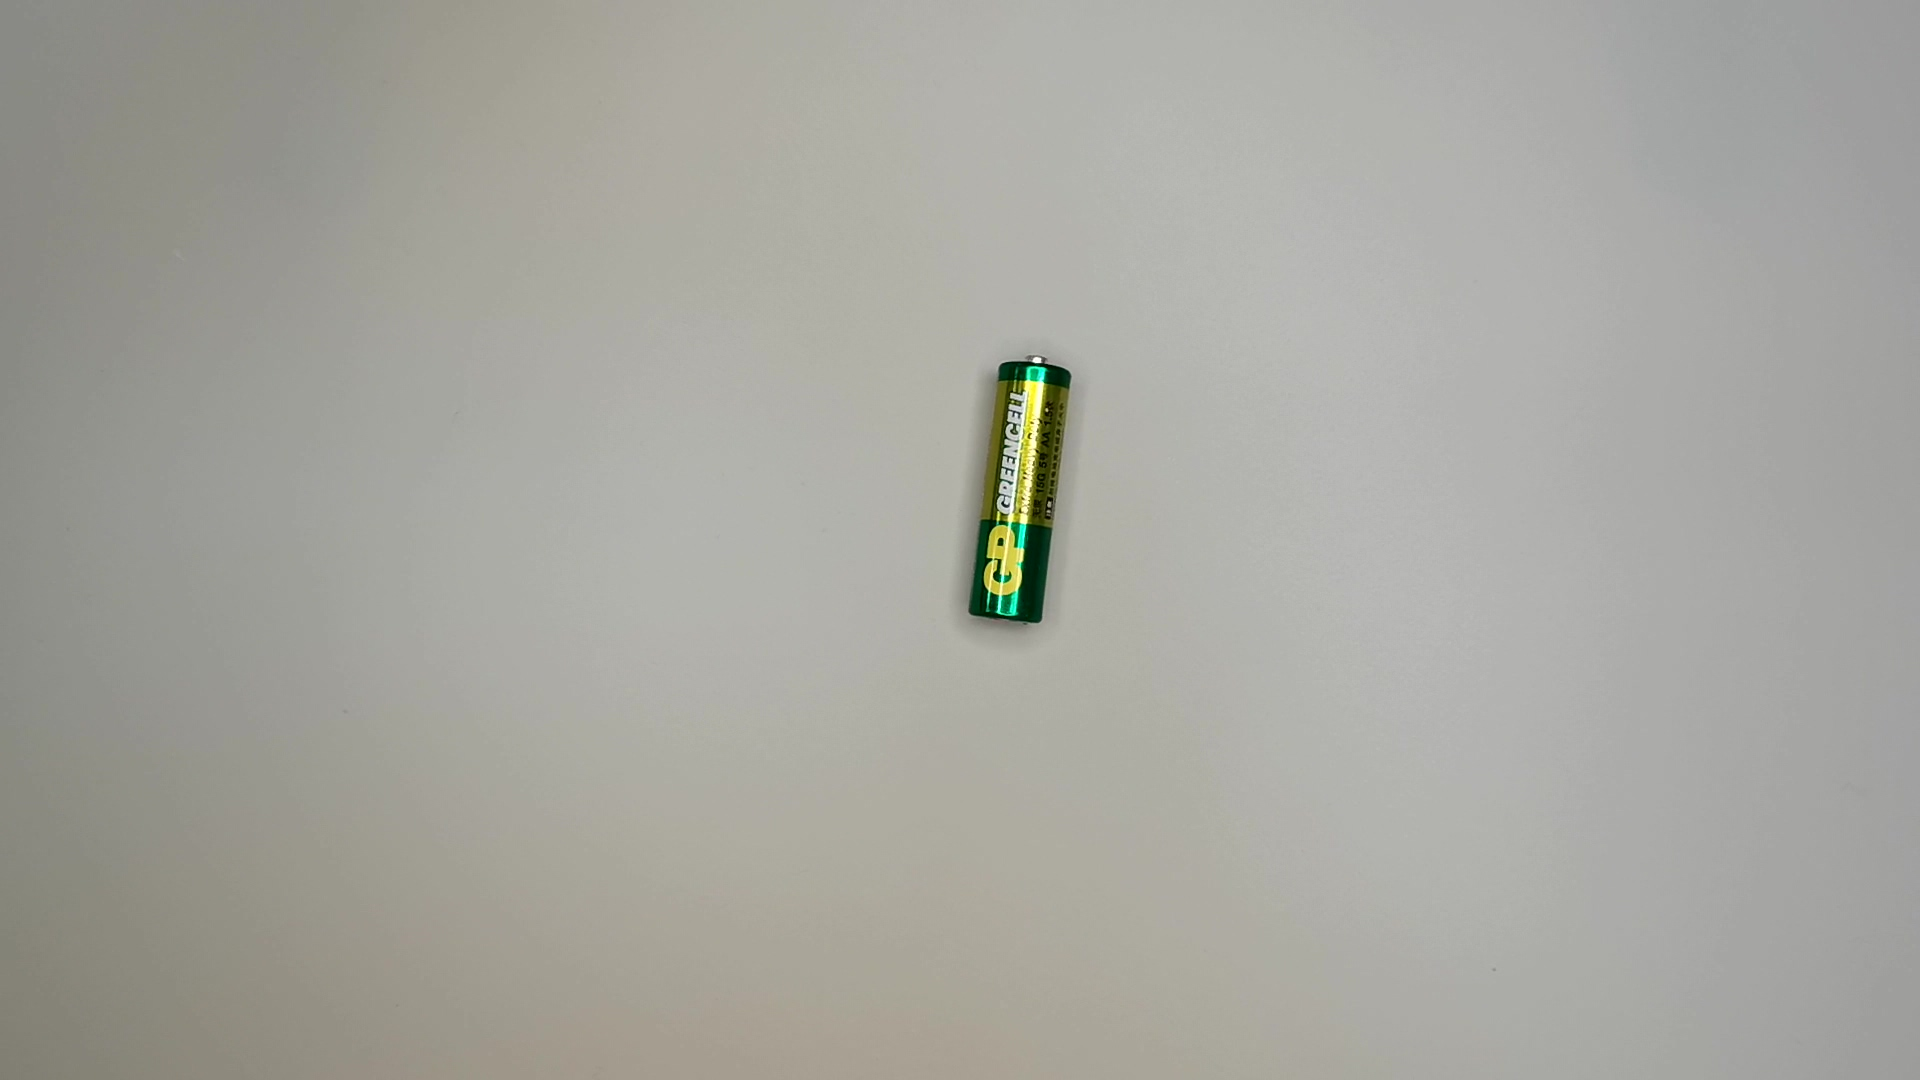battery: (960, 353, 1081, 626)
